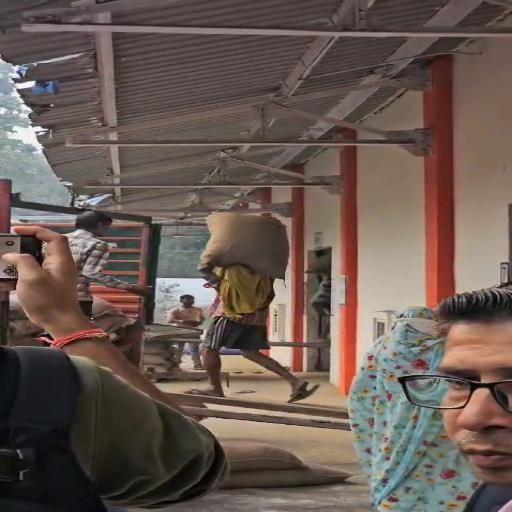bag: (206, 200, 292, 286)
